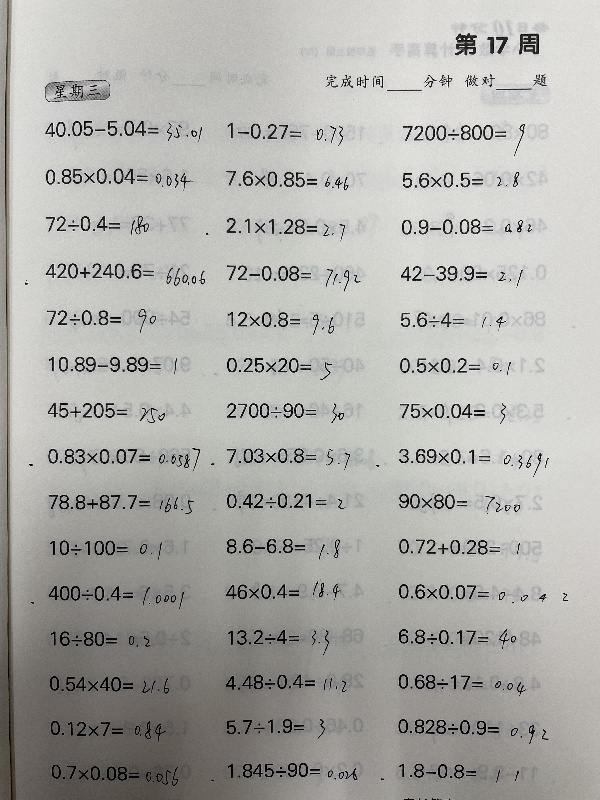equation: (43, 443, 217, 474), (393, 579, 574, 608), (387, 714, 568, 743), (398, 119, 528, 159), (394, 444, 551, 477), (45, 489, 196, 522), (41, 258, 209, 286), (223, 260, 363, 293), (47, 754, 182, 788), (390, 755, 531, 787), (40, 115, 205, 142), (46, 581, 185, 613), (40, 162, 195, 190), (395, 489, 524, 522), (226, 116, 346, 151), (222, 757, 361, 786), (387, 623, 526, 652), (391, 668, 530, 697), (393, 534, 525, 563), (222, 441, 353, 470), (223, 398, 349, 428), (44, 532, 170, 562), (42, 305, 158, 337), (222, 534, 349, 563), (207, 487, 348, 513), (220, 577, 346, 606), (220, 623, 346, 652), (224, 669, 350, 698), (396, 259, 525, 287), (395, 399, 511, 430), (221, 212, 348, 239), (42, 397, 168, 424), (44, 350, 180, 375), (222, 713, 335, 743), (46, 671, 171, 698), (47, 715, 172, 742), (223, 306, 338, 335), (397, 214, 535, 238), (221, 351, 334, 380), (220, 166, 351, 191), (395, 308, 511, 335), (398, 166, 523, 190), (42, 211, 153, 238), (47, 628, 161, 654), (394, 352, 513, 376)
